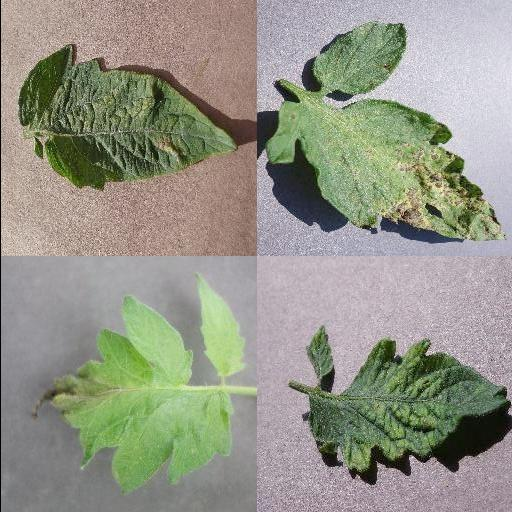Healthy: (197, 271, 247, 377)
Late Blight: (26, 296, 234, 496)
Mosaic Virus: (303, 327, 507, 475)
Septoria: (264, 97, 508, 241)
Spider Mites: (17, 45, 239, 191)
